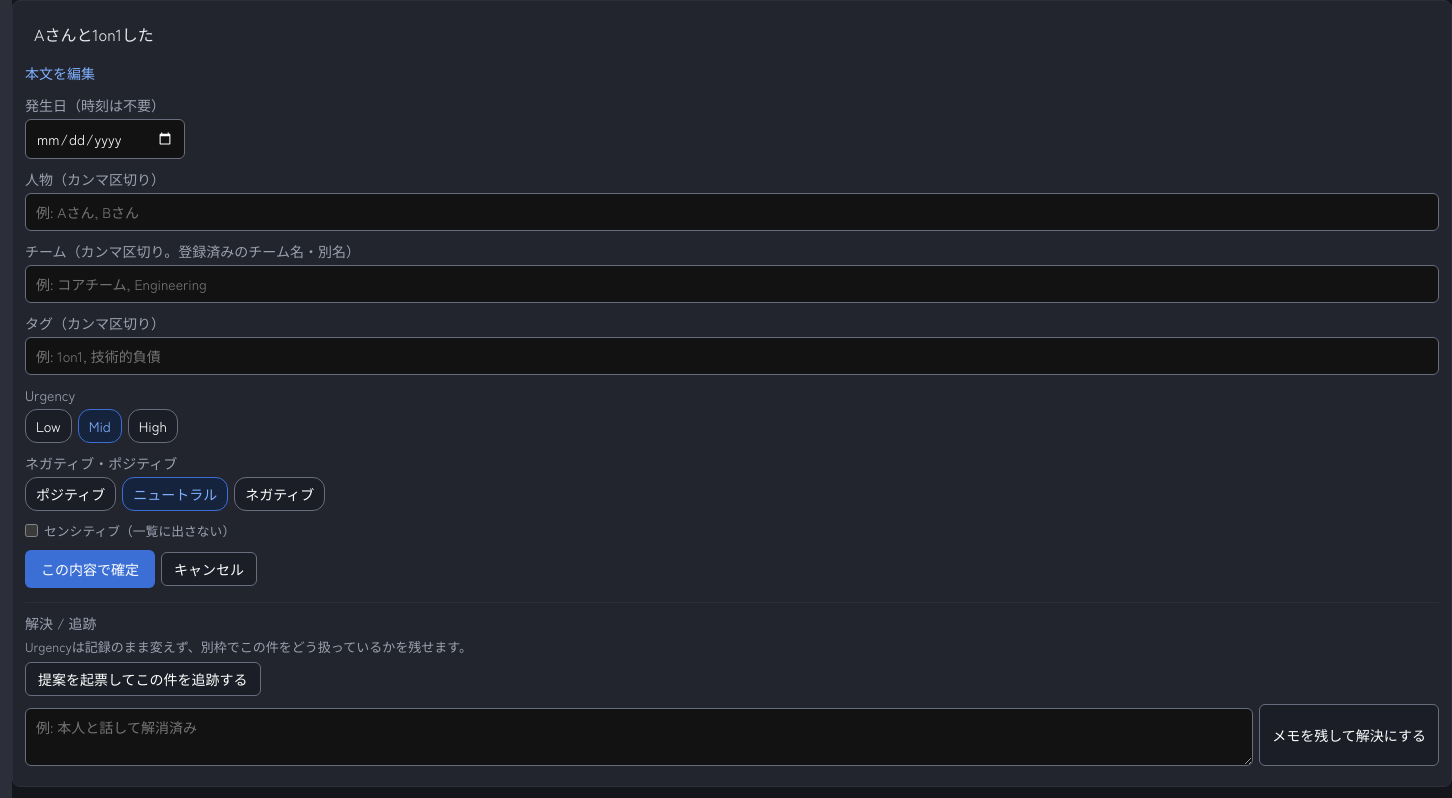
JournalEntryCard（編集モード） › 本文は「本文を編集」ボタンを押すまでtextareaを表示しない
Click the button "本文を編集" at (60,73), box [19,59,101,87]
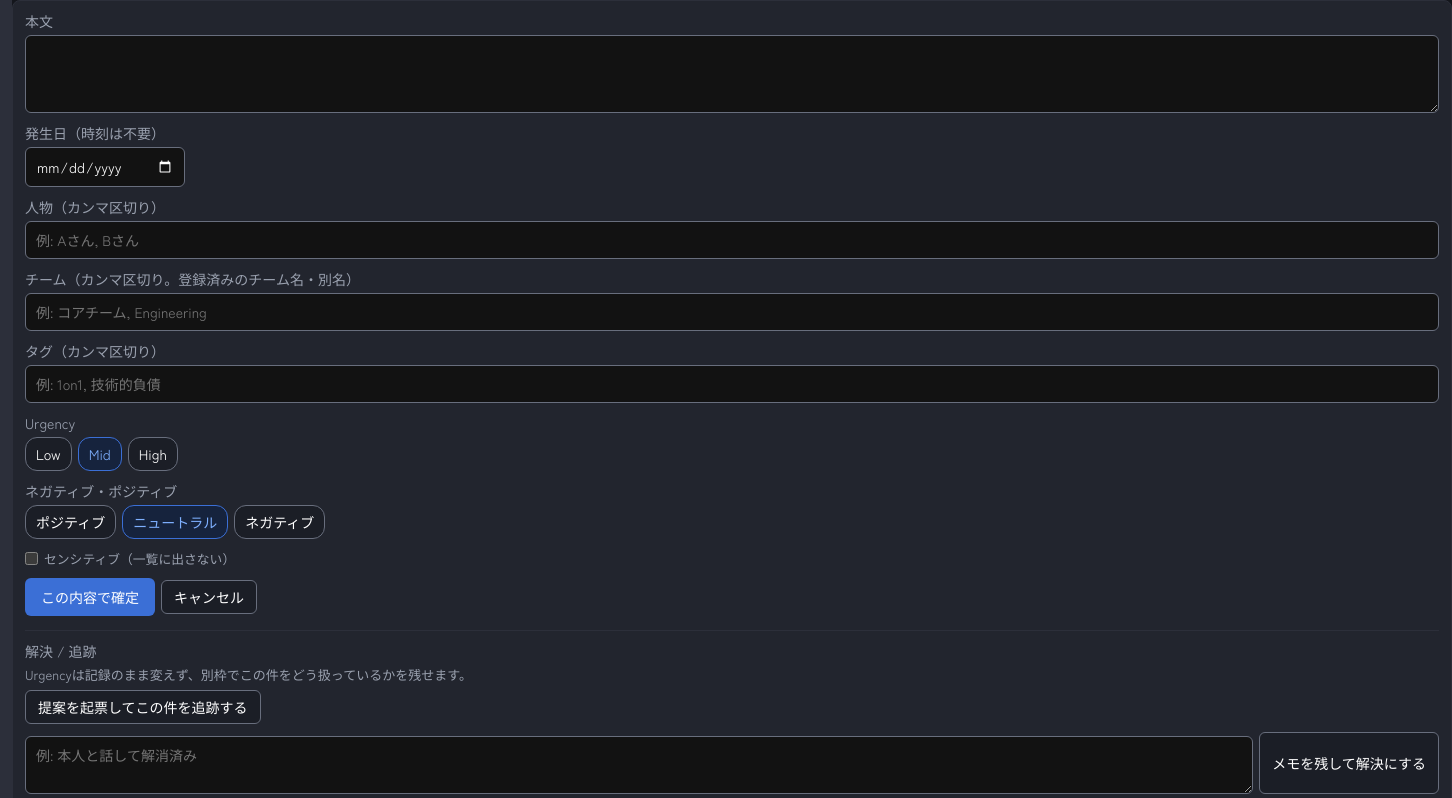
Result: the text box labelled "本文" is shown at [25,35,1439,113]
